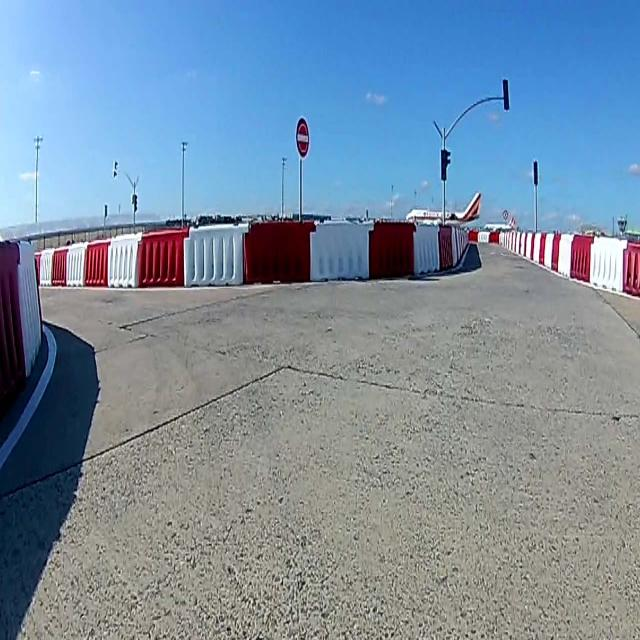girisyok: (296, 115, 310, 161)
